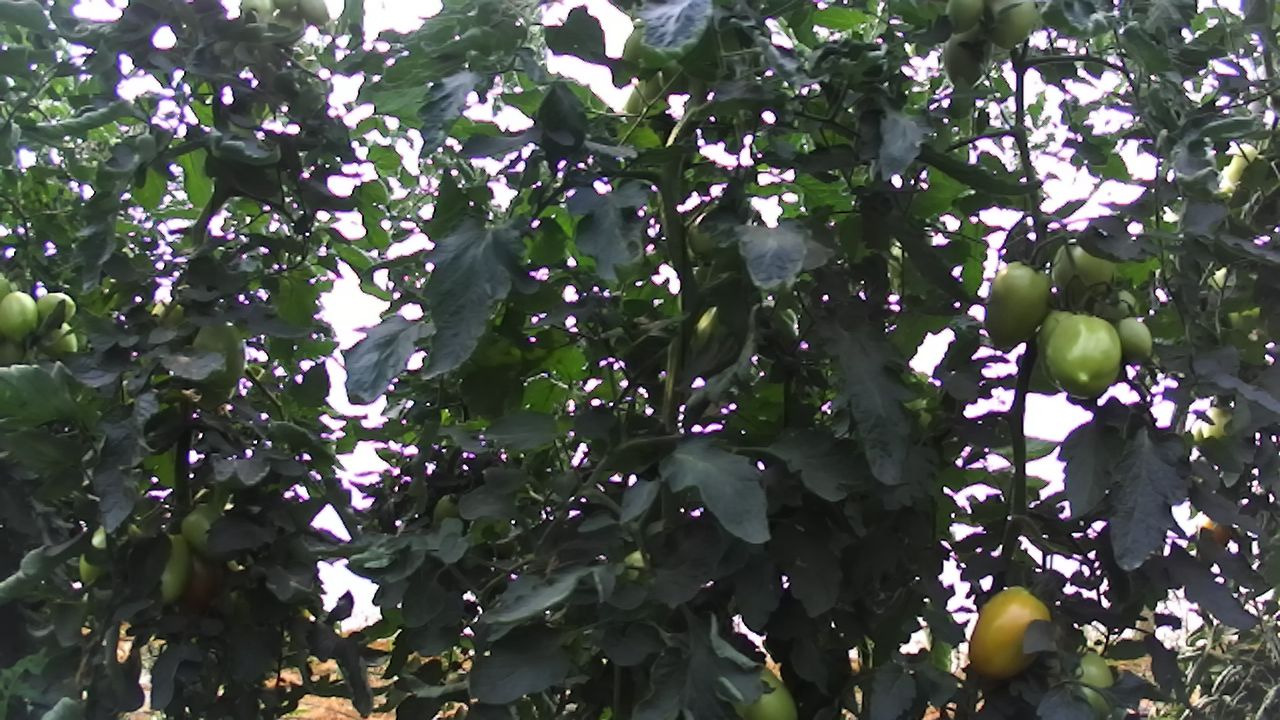tomato: (964, 583, 1056, 685), (1038, 308, 1124, 405), (982, 256, 1053, 352), (0, 288, 41, 345), (1115, 315, 1155, 366)
